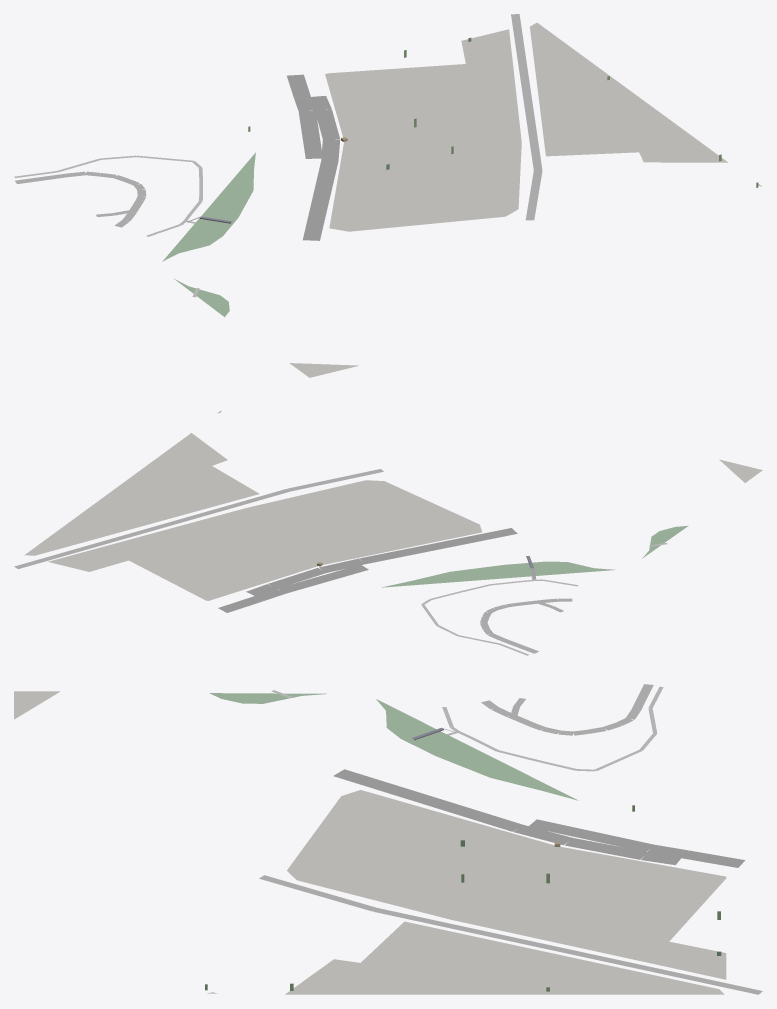
3 views of the same model, one above another, from view 1: azimuth 30°, elevation 25°; view 2: azimuth 150°, elevation 25°; view 3: azimuth 270°, elevation 25° (orthographic). The views are drawn at different scales.
Size of the model in its own units: 517 by 8.95 by 526.
